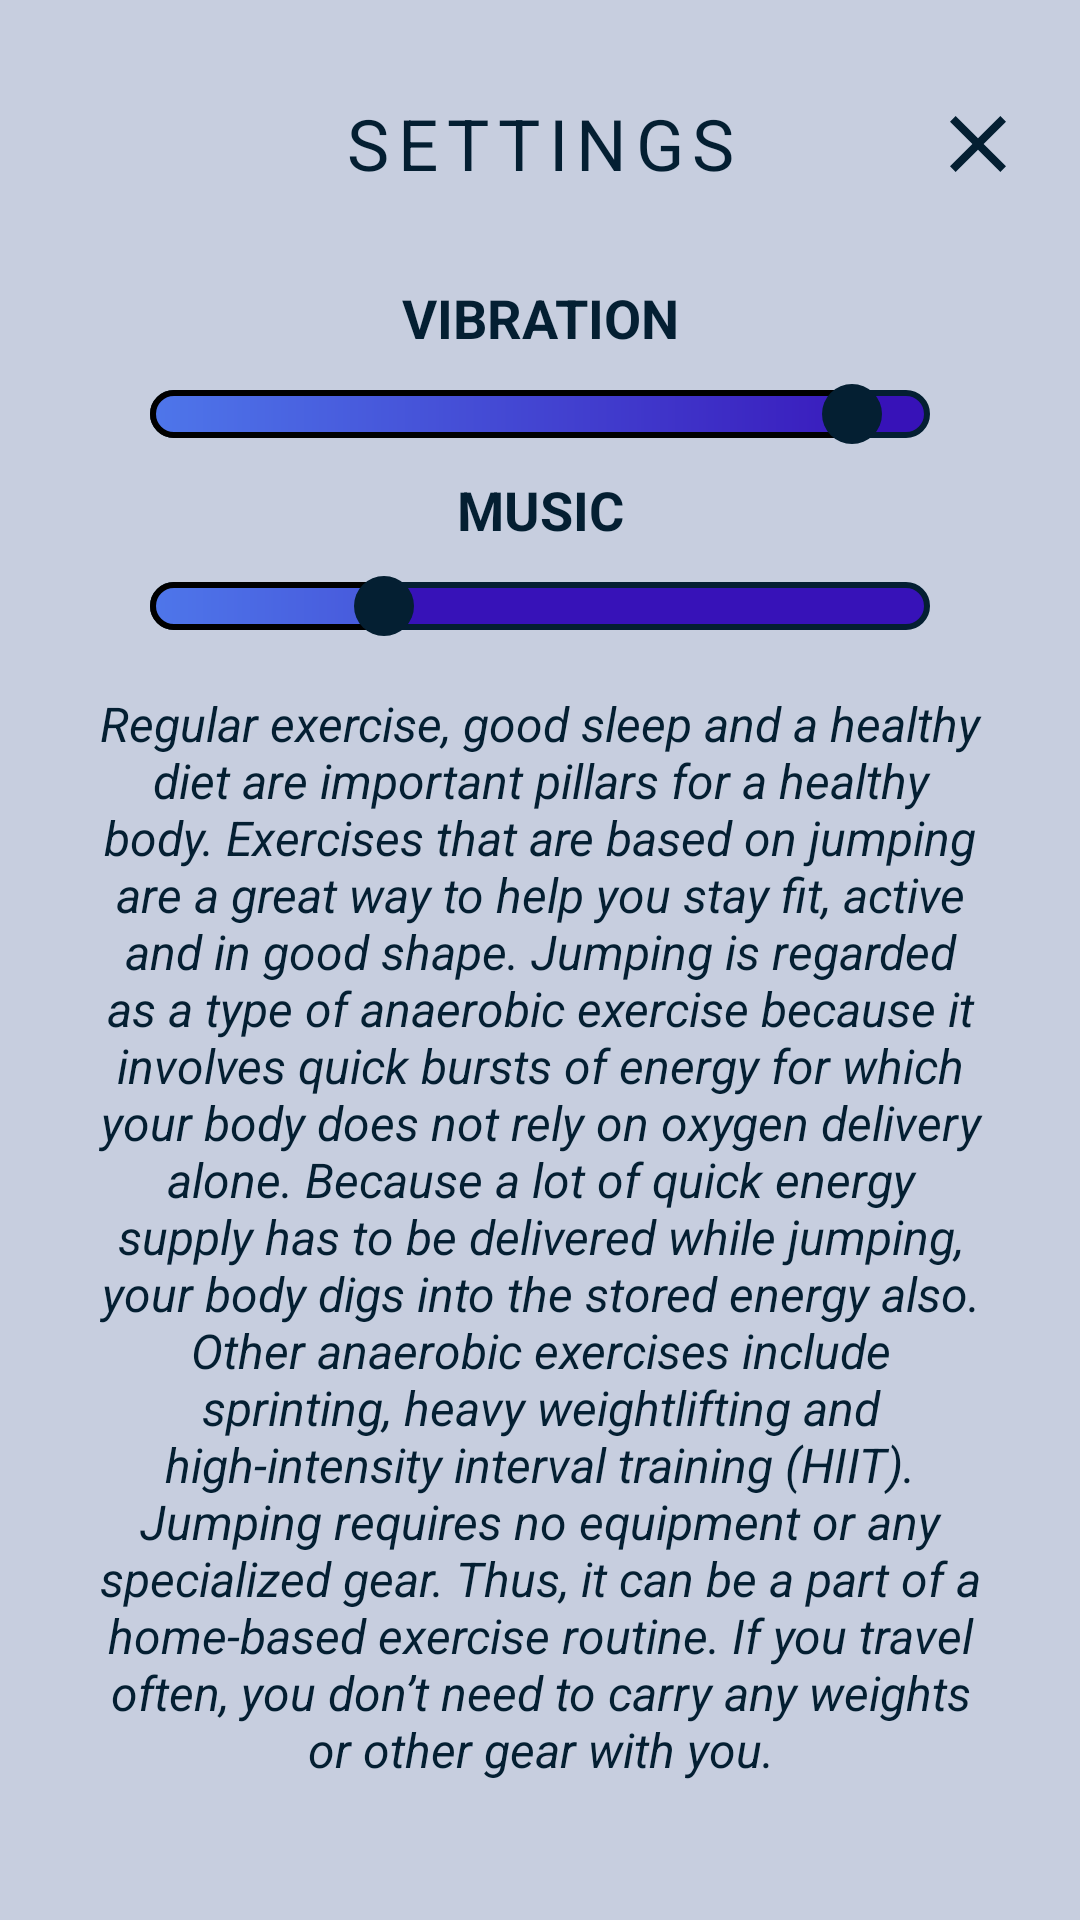

Named icons in this screenshot (1080x1920) and their bounding boxes, BBox(x1, y1, x2, y2):
close: BBox(950, 116, 1006, 172)
